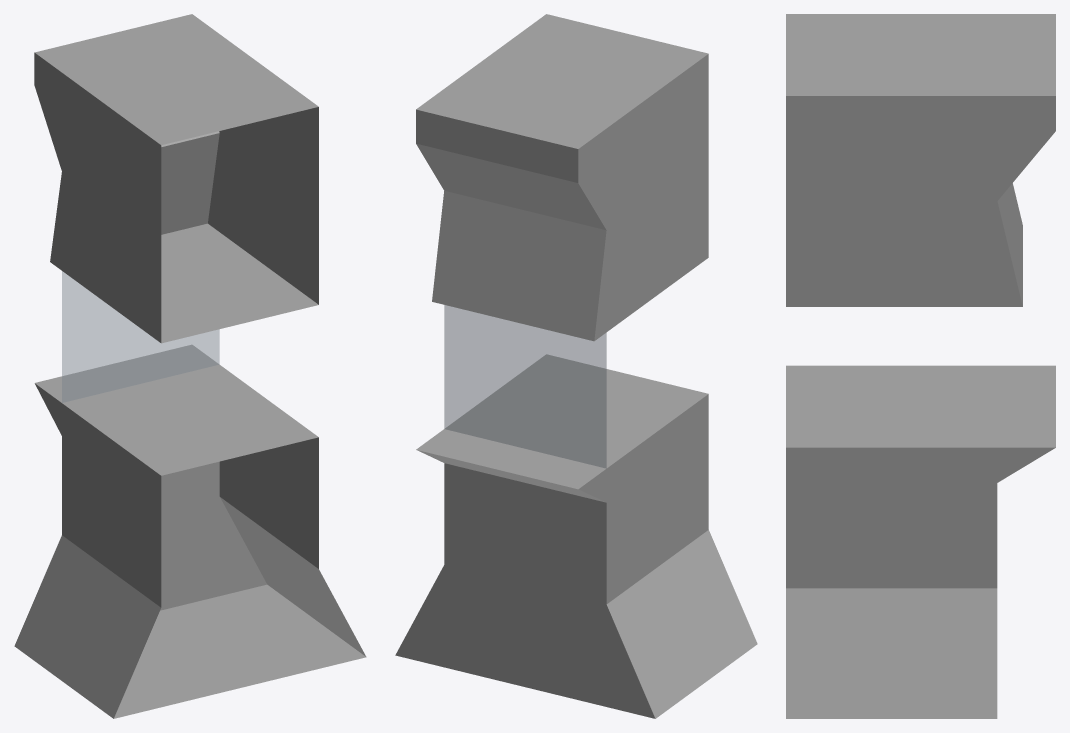
The picture shows the model from 3 angles, left to right: view 1: azimuth 30°, elevation 25°; view 2: azimuth 150°, elevation 25°; view 3: azimuth 270°, elevation 25°; orthographic projection. The views are drawn at different scales.
Visible parts, largest first — view 1: B2; view 2: B2; view 3: B2.
Boxes of the visible parts, x1,y1,x2,y2 form: B2: [14, 14, 366, 718]; B2: [395, 14, 757, 718]; B2: [786, 14, 1055, 718].
Size of the model in its own units: 56.22 by 119 by 48.82.
